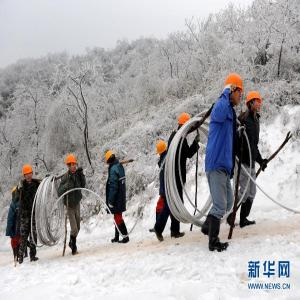yellow: (224, 73, 244, 106), (247, 91, 263, 115), (179, 113, 192, 137), (23, 163, 35, 183), (67, 155, 78, 174), (105, 150, 117, 167), (157, 139, 167, 158)
